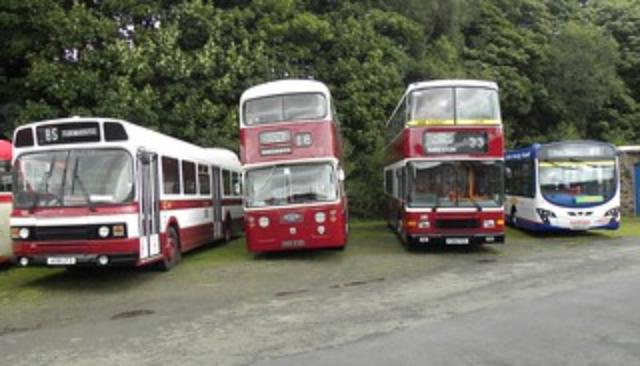bus: (8, 114, 242, 272), (378, 76, 508, 250), (236, 78, 354, 254), (504, 140, 622, 236)
